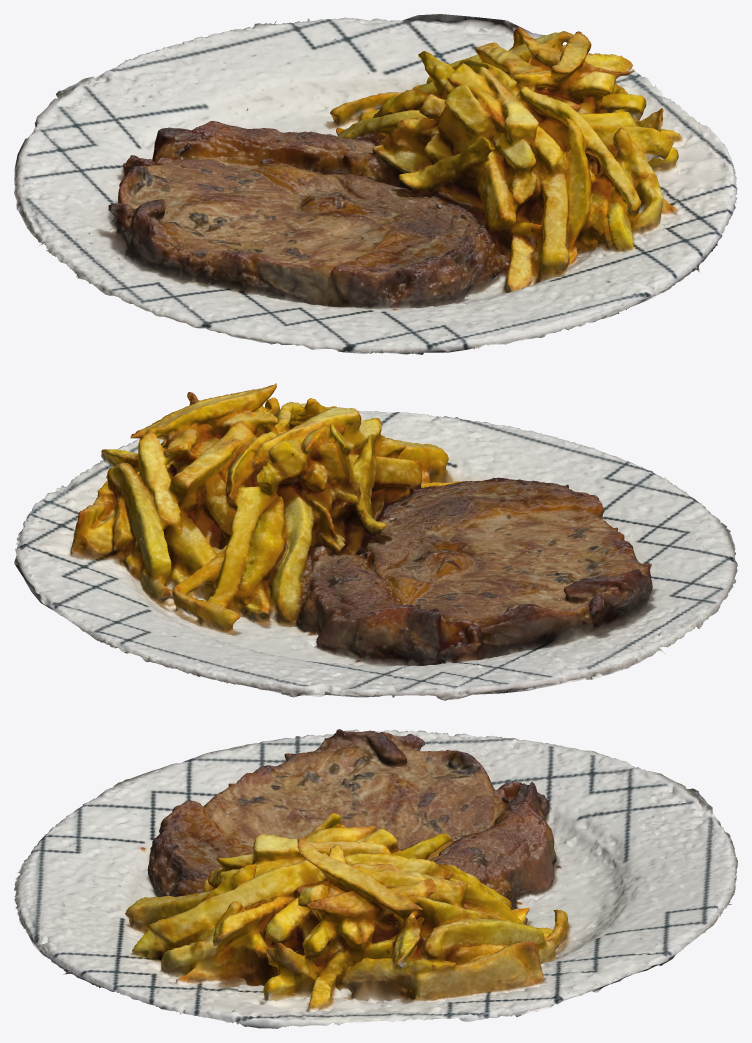
File: pirzola_model_lite.fbx
3 renders of one model, top to bottom at view 1: azimuth 30°, elevation 25°; view 2: azimuth 150°, elevation 25°; view 3: azimuth 270°, elevation 25°, orthographic.
Visible parts, largest first — view 1: pirzolamodeli; view 2: pirzolamodeli; view 3: pirzolamodeli.
Boxes of the visible parts, x1,y1,x2,y2 form: pirzolamodeli: (14, 14, 737, 354); pirzolamodeli: (14, 383, 737, 700); pirzolamodeli: (14, 729, 737, 1028).
Size of the model in its own units: 3666 by 868 by 3726.
Materials: 1 (1 with a texture image).
